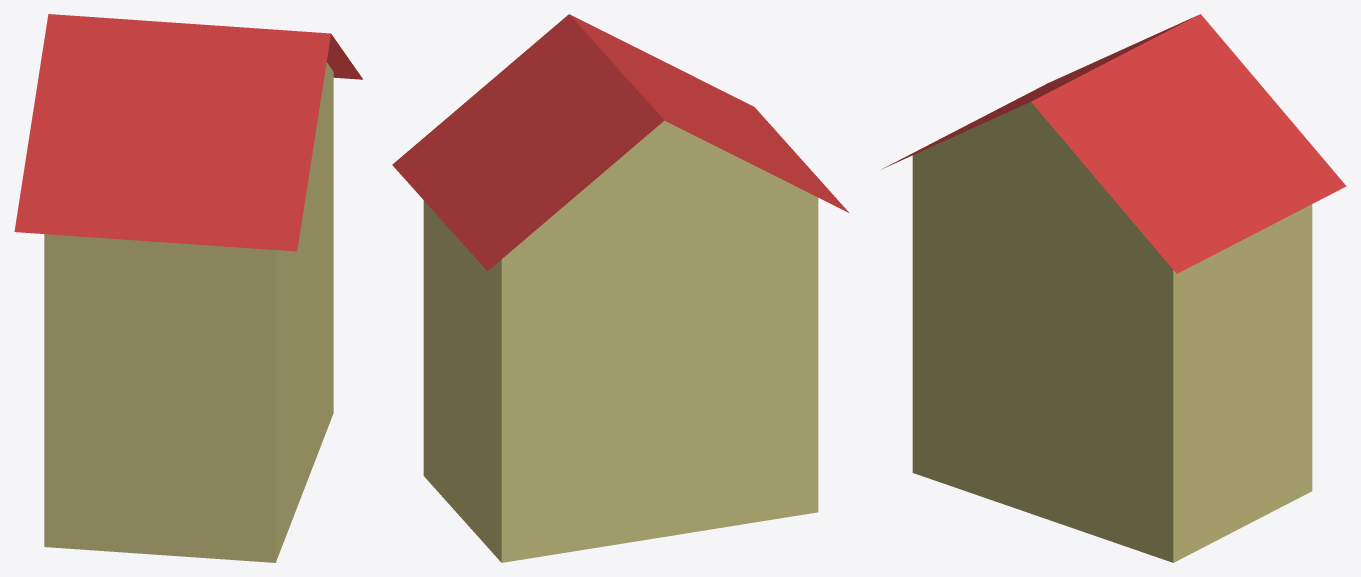
3 renders of one model, left to right at view 1: azimuth 30°, elevation 25°; view 2: azimuth 150°, elevation 25°; view 3: azimuth 270°, elevation 25°, orthographic. The views are drawn at different scales.
Bounding box in the file's own units: 13.93 × 14.44 × 14.47.
